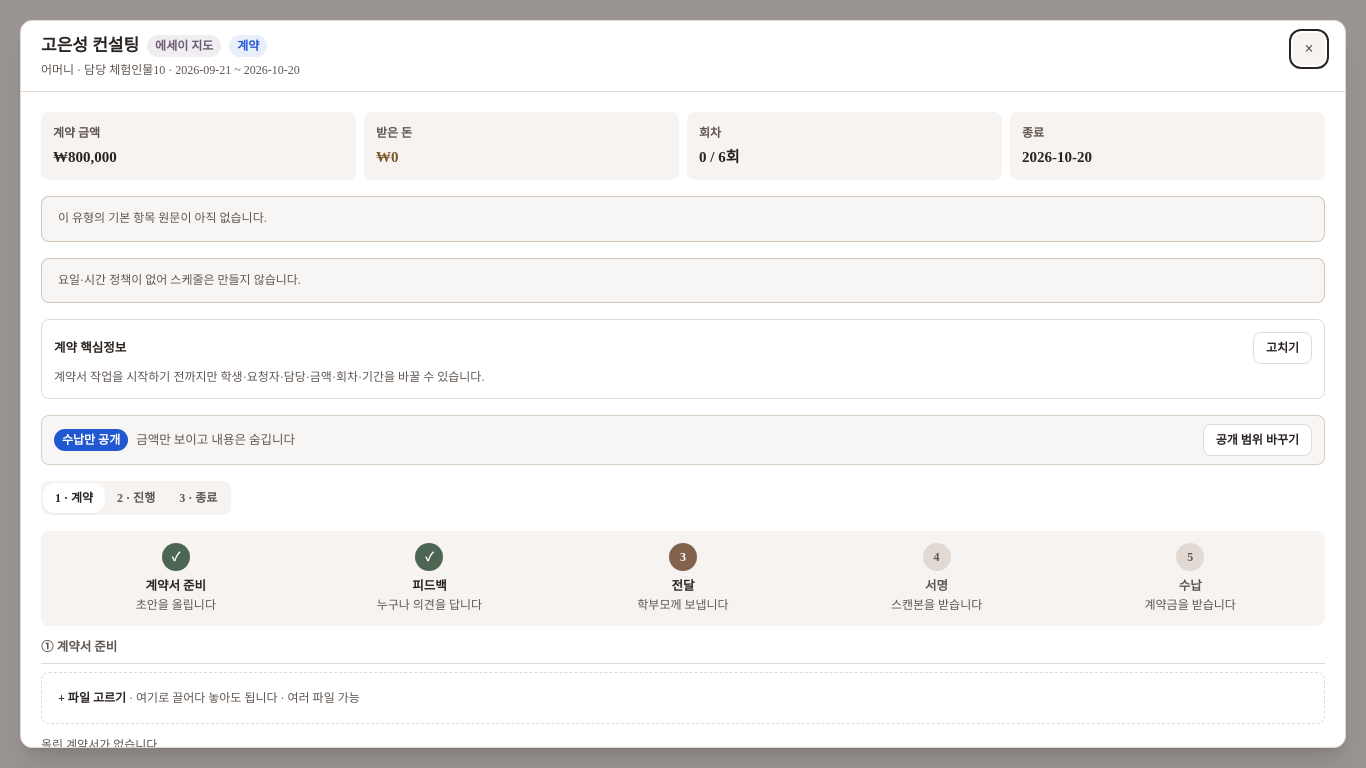
Scenario: ConsultingContractWorkflow › 공개 범위는 칩과 서버의 뜻 한 줄로 서고, 「공개 범위 바꾸기」를 눌러야 고르는 칸이 열린다 (30-06)
This screenshot has width=1366, height=768.
Expected: the text "금액만 보이고 내용은 숨깁니다" is shown, x1=136 y1=431 x2=295 y2=449
Expected: the button "전체 공개" is not shown
Click the button "공개 범위 바꾸기" at {"x": 1257, "y": 440}, box x1=1203 y1=424 x2=1312 y2=456
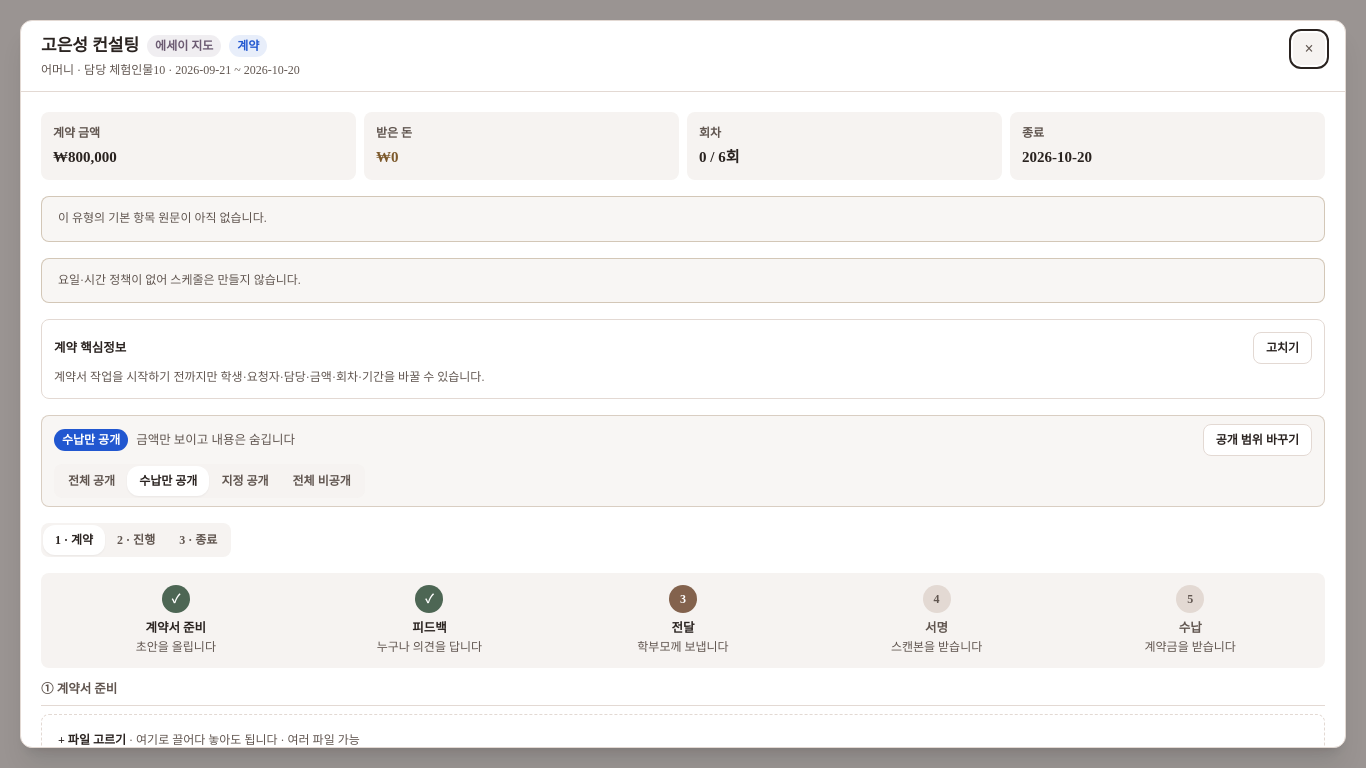
Result: the button "수납만 공개" is shown at x1=127 y1=466 x2=209 y2=496
